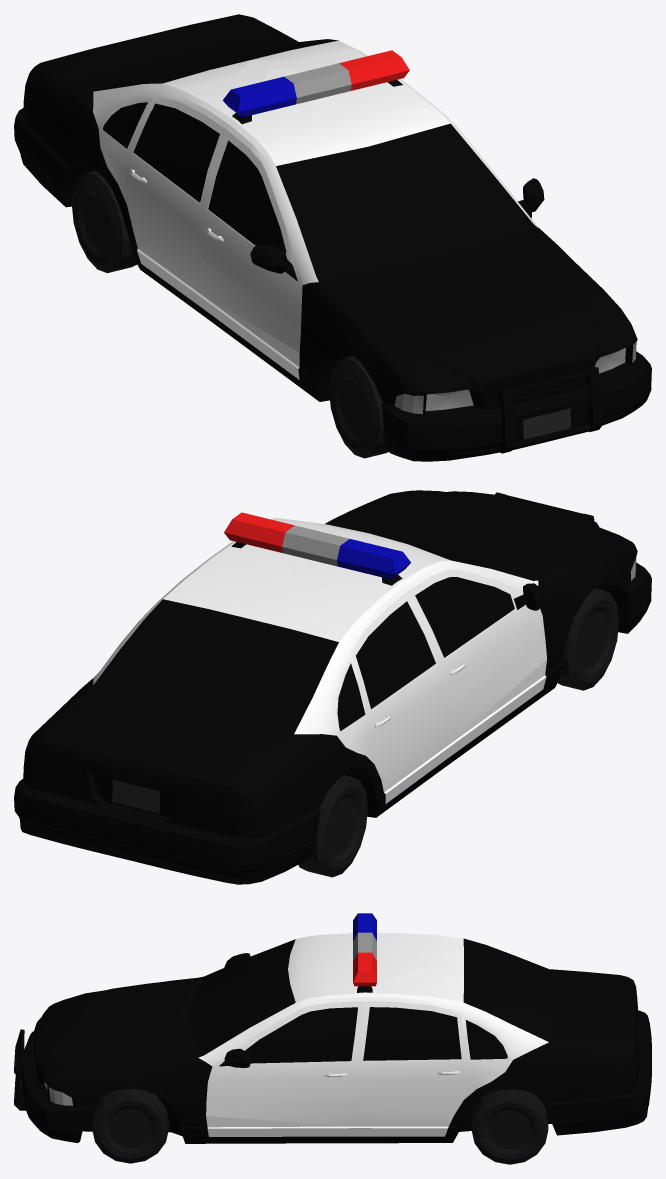
Rendered from policecar.fbx.
3 renders of one model, top to bottom at view 1: azimuth 30°, elevation 25°; view 2: azimuth 150°, elevation 25°; view 3: azimuth 270°, elevation 25°, orthographic. The views are drawn at different scales.
Parts seen in each view (by area): view 1: us_police__001, Windows, WheelRightBack, WheelRightFront; view 2: us_police__001, Windows, WheelRightBack, WheelRightFront; view 3: us_police__001, Windows, WheelLeftBack, WheelLeftFront.
Boxes of the visible parts, box(x1,y1,x2,y2) form: us_police__001: box(14, 14, 651, 461); Windows: box(99, 39, 528, 277); WheelRightBack: box(71, 170, 137, 273); WheelRightFront: box(329, 356, 388, 458); us_police__001: box(14, 490, 651, 884); Windows: box(98, 525, 514, 731); WheelRightBack: box(298, 775, 367, 877); WheelRightFront: box(557, 588, 618, 690); us_police__001: box(14, 913, 651, 1143); Windows: box(193, 940, 557, 1063); WheelLeftBack: box(471, 1089, 548, 1164); WheelLeftFront: box(92, 1088, 168, 1163).
Bounding box in the file's own units: 81.3 × 63.66 × 208.
